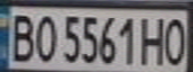1: (115, 14, 142, 65)
5: (57, 11, 81, 63), (78, 12, 100, 64)
6: (96, 14, 121, 65)
B: (3, 10, 39, 63)
H: (136, 14, 169, 66)
O: (30, 10, 60, 63), (160, 14, 190, 66)
